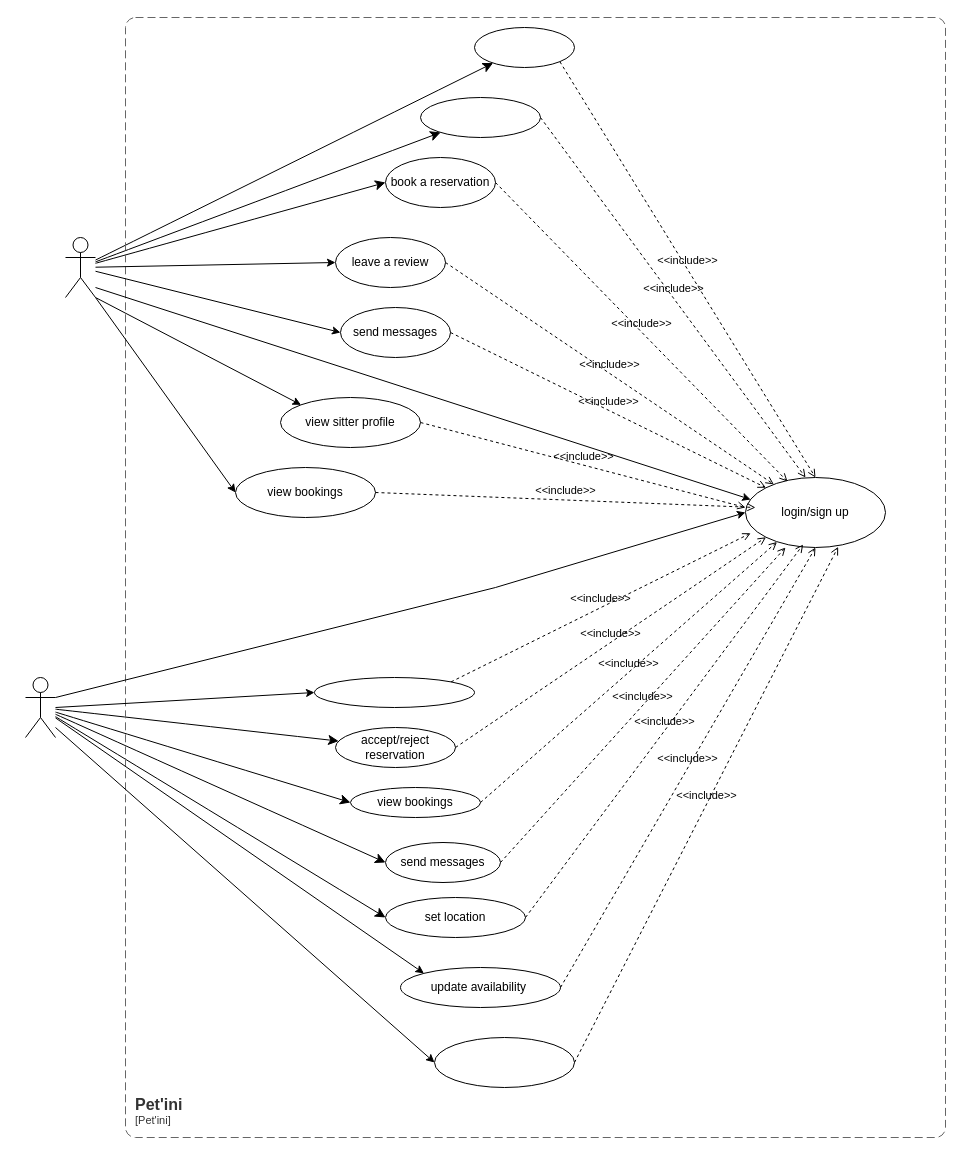
Some shapes in this 963 by 1155 pixel diagram are drawn without their labels. Here are the shapes that lost their labels. From the top down, the box of each, then its label:
(474, 26, 574, 68): create pet profile
(420, 96, 540, 138): search for pet sitters
(64, 236, 96, 298): pet owner
(24, 676, 56, 738): pet sitter
(314, 676, 474, 708): create sitter profile
(434, 1036, 574, 1088): manage reservations
